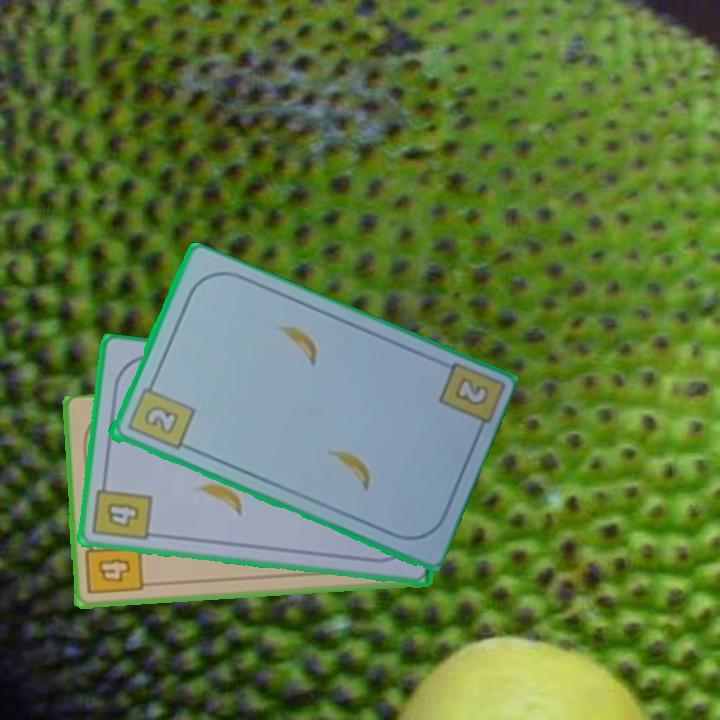2b: (123, 376, 197, 453), (450, 373, 492, 410)
4b: (89, 475, 155, 544), (82, 535, 146, 598)
